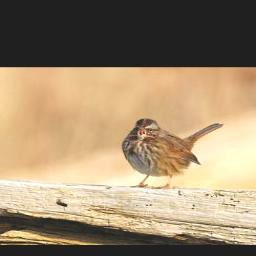Sparrow: (123, 117, 227, 189)
